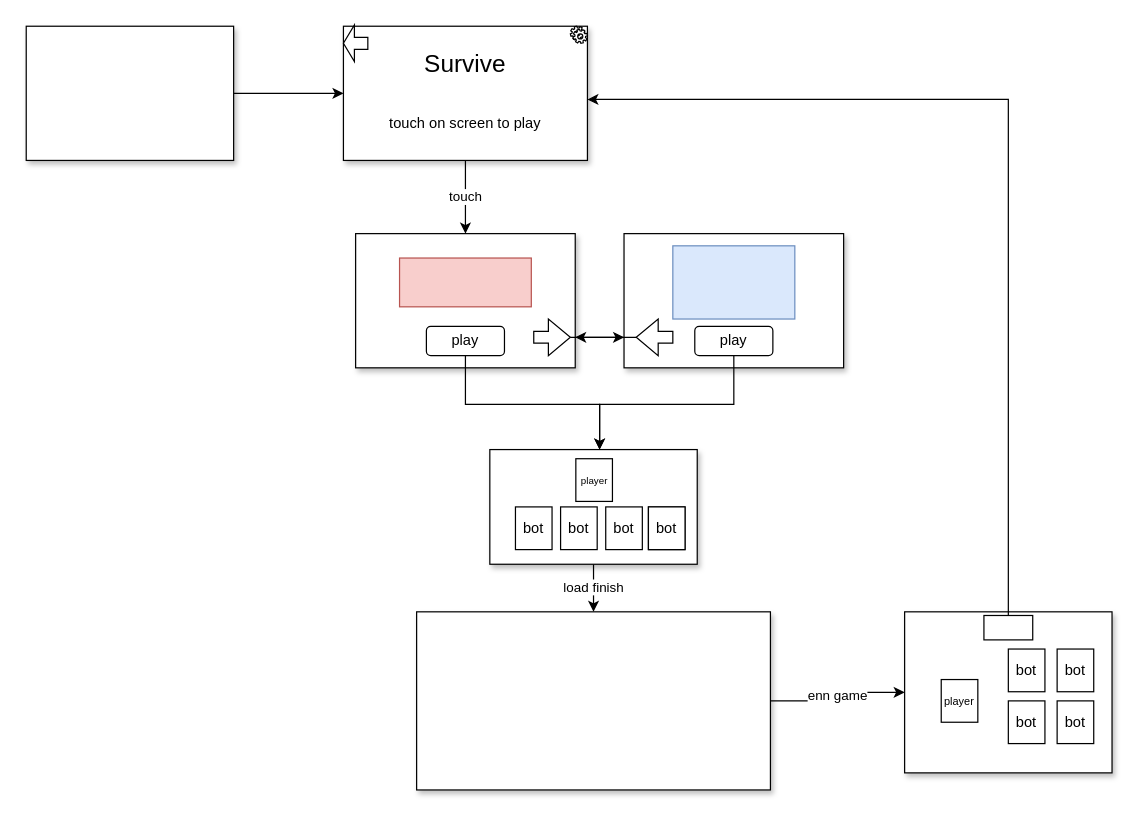
Image size: 1141x820. Some labels were removed from this diagram. The shapes that lost their labels are listed below. From the top down, each one's centre as x and y in pixels, then its label:
At point 130,94: "Splash".
At point 464,282: "Map".
At point 733,282: "Character".
At point 1008,627: "Result".
At point 594,702: "Game Play".
